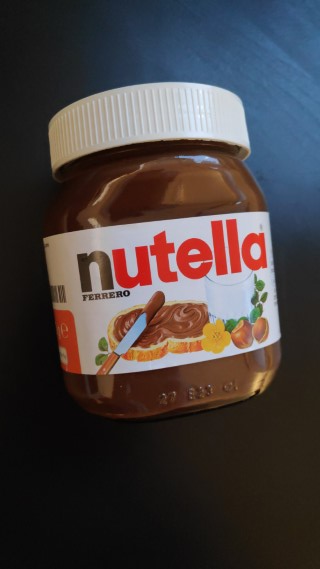nutella: (40, 79, 283, 424)
